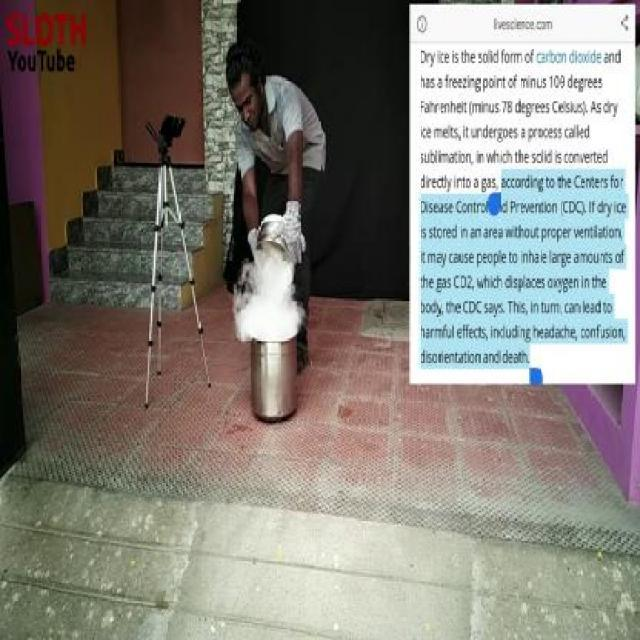smoke: (225, 246, 318, 374)
